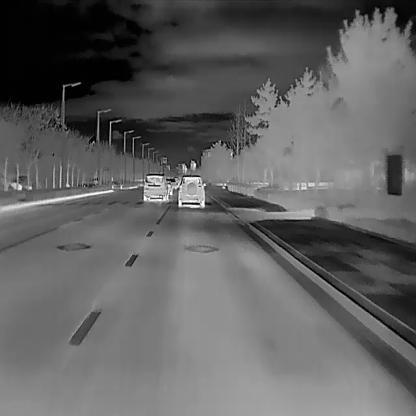car: (178, 175, 206, 207), (142, 172, 169, 201), (165, 177, 178, 189), (165, 180, 173, 195)
